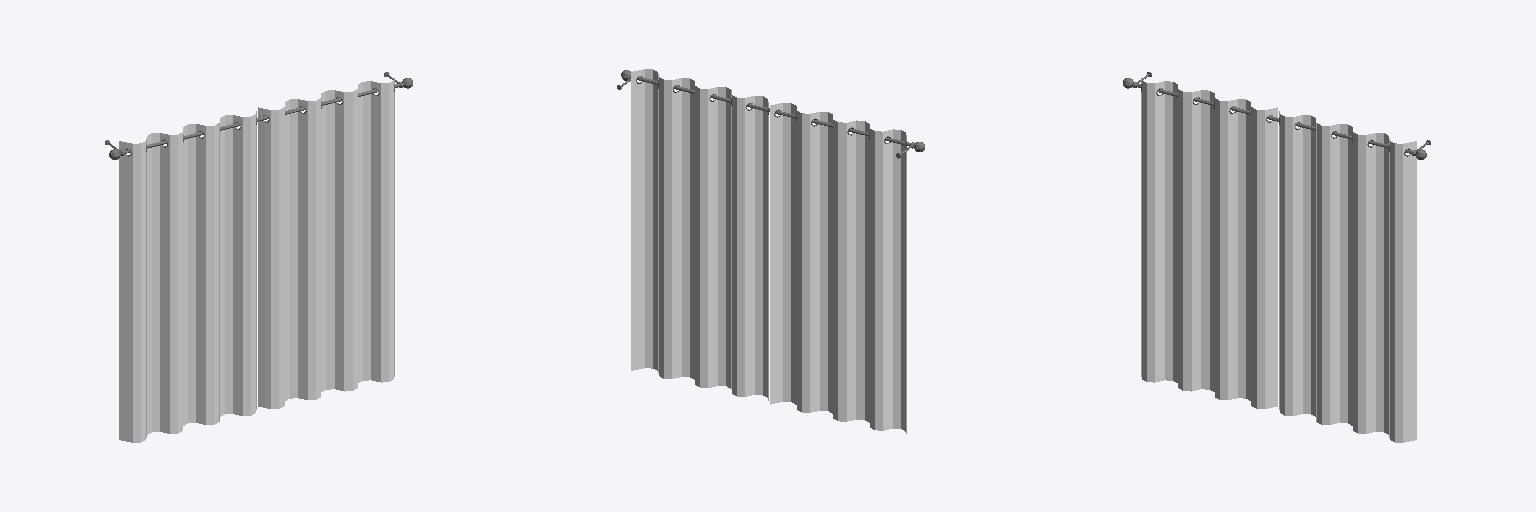
Rendered from curtain_0001.obj.
3 renders of one model, left to right at view 1: azimuth 30°, elevation 25°; view 2: azimuth 150°, elevation 25°; view 3: azimuth 330°, elevation 25°, orthographic.
Bounding box in the file's own units: 1.8 × 1.7 × 0.1901.